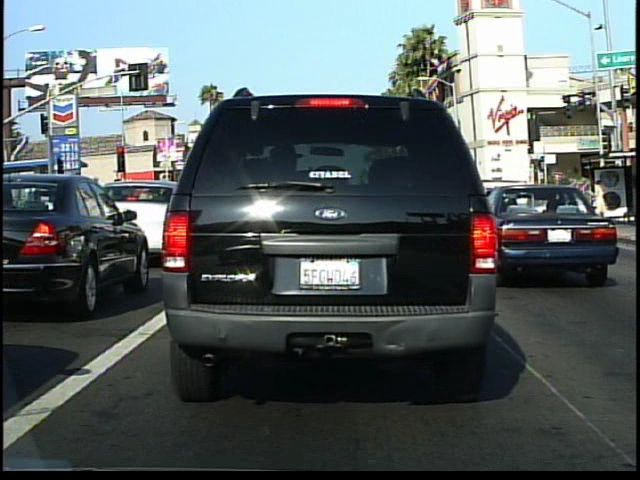car: (154, 84, 500, 401), (1, 176, 139, 317), (482, 176, 625, 288)
